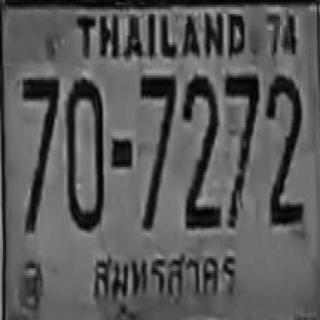N00: (65, 76, 103, 230)
N02: (266, 74, 303, 227), (182, 75, 218, 228)
N07: (21, 75, 58, 231), (139, 73, 175, 228), (224, 73, 258, 226), (21, 75, 58, 209), (21, 75, 58, 179), (224, 73, 258, 179)
P58: (85, 243, 242, 316)
